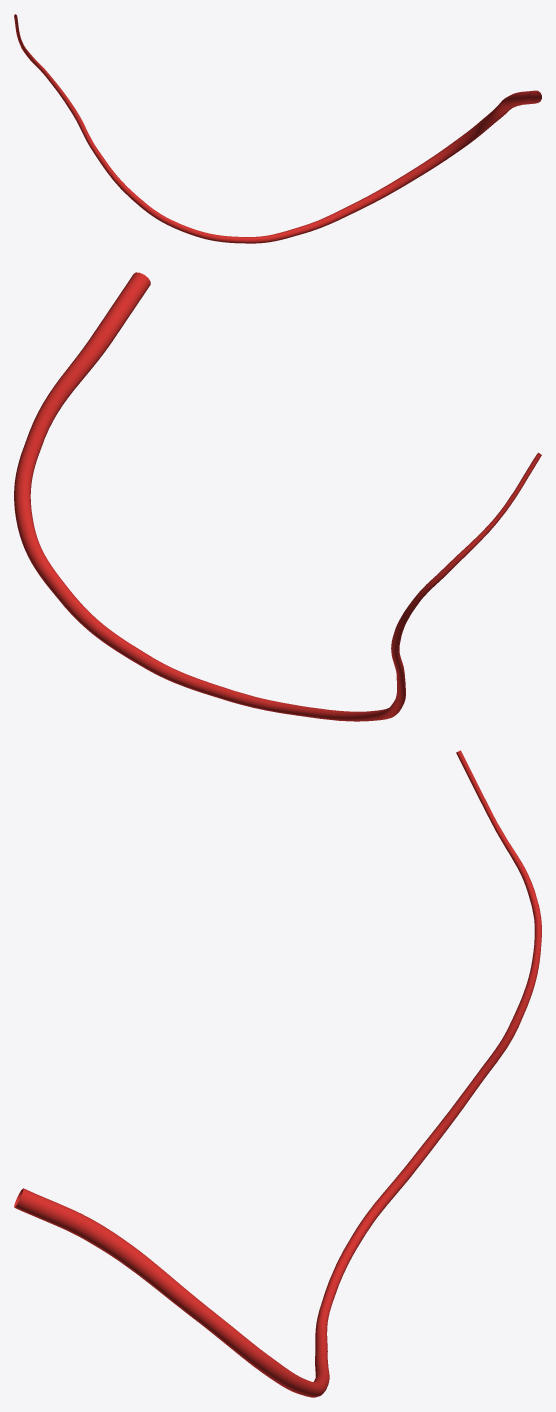
File: circulatorio-lateral-occipital-artery-r.glb
3 views of the same model, one above another, from view 1: azimuth 30°, elevation 25°; view 2: azimuth 150°, elevation 25°; view 3: azimuth 270°, elevation 25° (orthographic). The views are drawn at different scales.
Visible parts, largest first — view 1: Lateral occipital artery.r; view 2: Lateral occipital artery.r; view 3: Lateral occipital artery.r.
Boxes of the visible parts, x1,y1,x2,y2 form: Lateral occipital artery.r: (14,14,541,243); Lateral occipital artery.r: (14,272,541,721); Lateral occipital artery.r: (14,750,541,1397).
Bounding box in the file's own units: 0.0434 × 0.0253 × 0.0293.
